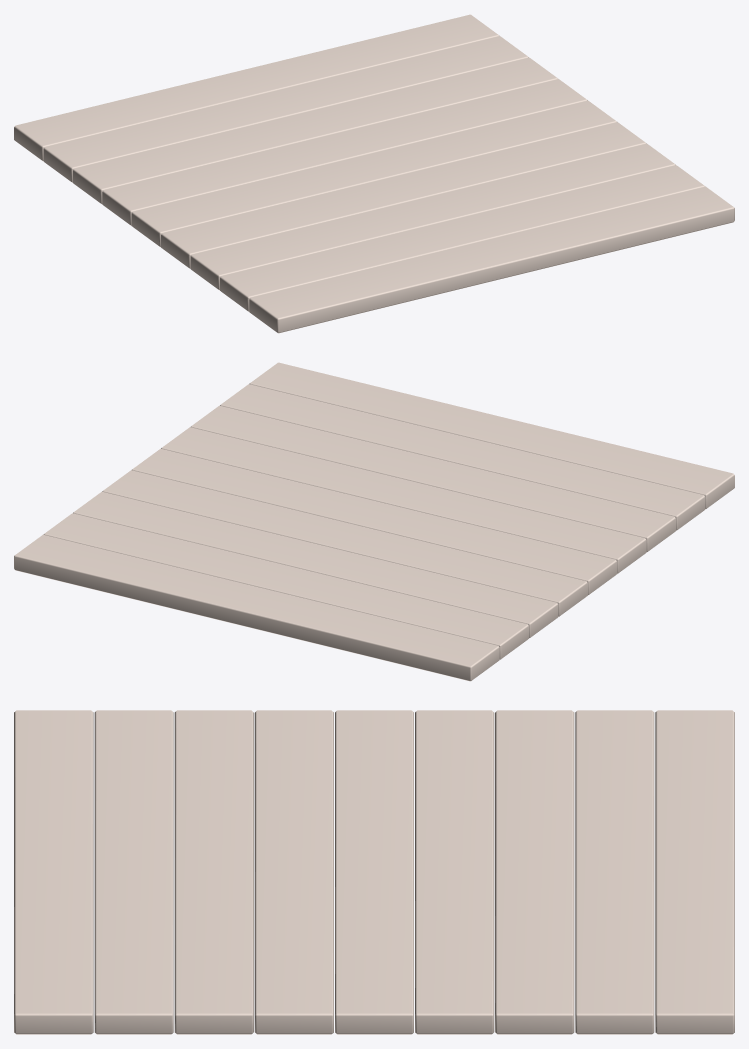
Rendered from Floor_18.glb.
3 views of the same model, one above another, from view 1: azimuth 30°, elevation 25°; view 2: azimuth 150°, elevation 25°; view 3: azimuth 270°, elevation 25° (orthographic). The views are drawn at different scales.
Visible parts, largest first — view 1: Floor_18; view 2: Floor_18; view 3: Floor_18.
Part boxes in pixels (x1,y1,x2,y2): Floor_18: (14,14,734,333); Floor_18: (14,362,734,681); Floor_18: (14,710,734,1034).
Size of the model in its own units: 4.6 by 0.15 by 4.6.
1 material, 1 textured.
